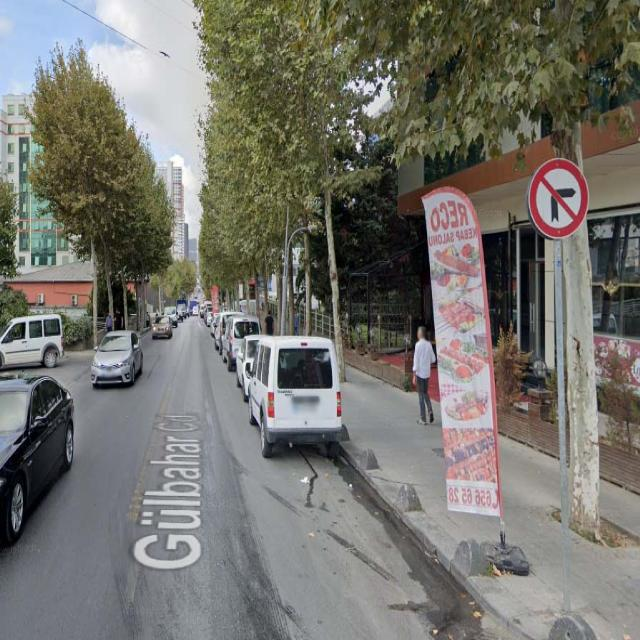sagadonulmez: (528, 157, 590, 239)
